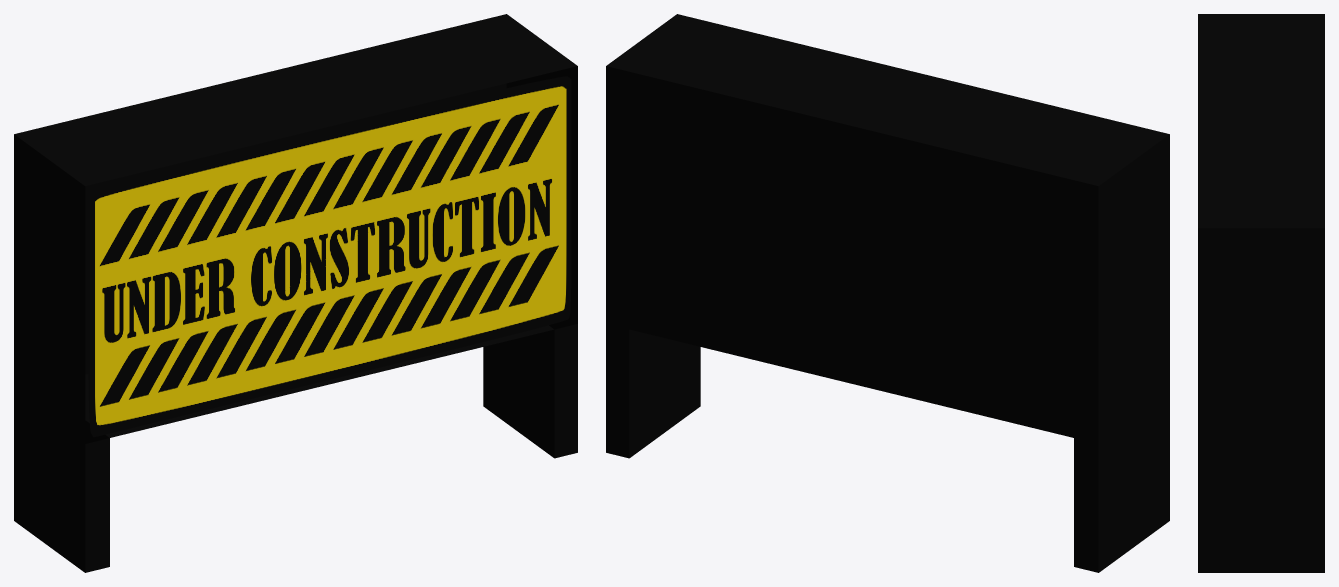
Rendered from Under Contruction Sign.FBX.
3 renders of one model, left to right at view 1: azimuth 30°, elevation 25°; view 2: azimuth 150°, elevation 25°; view 3: azimuth 270°, elevation 25°, orthographic. The views are drawn at different scales.
Parts seen in each view (by area): view 1: Under Construction; view 2: Under Construction; view 3: Under Construction.
Boxes of the visible parts, left/top/right/bottom form: Under Construction: left=14, top=14, right=577, bottom=572; Under Construction: left=606, top=14, right=1169, bottom=572; Under Construction: left=1198, top=14, right=1324, bottom=572.
Size of the model in its own units: 254 by 190 by 63.5.
